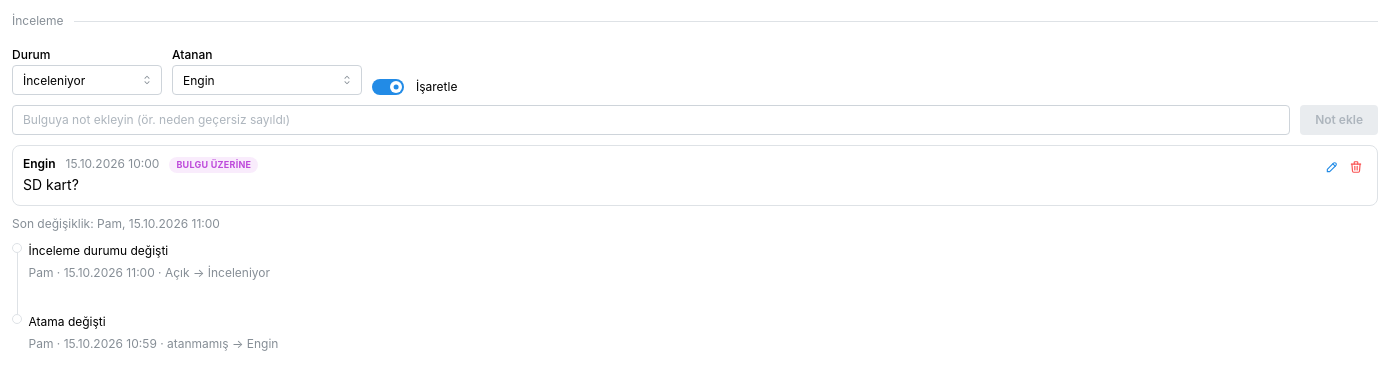
Test case: FindingReviewPanel › changes the review status and shows the history in Turkish
This screenshot has width=1390, height=368.
Expected: the text "SD kart?" is shown, [23,176,79,193]
Expected: the text "Pam · 15.10.2026 11:00 · Açık → İnceleniyor" is shown, [28,265,270,280]
Click the field labelled "Durum". click: (87, 80)
box: [12,65,162,95]
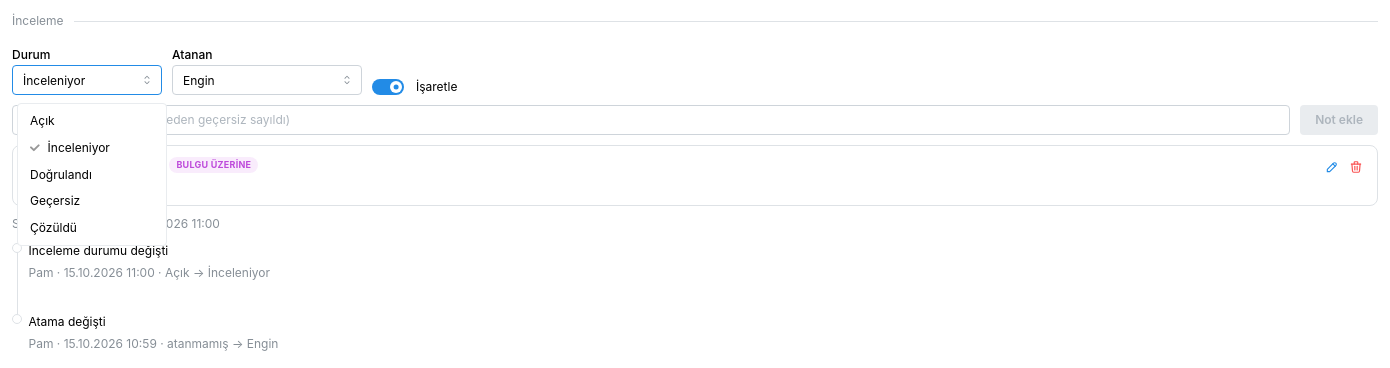
Click the option "Doğrulandı". click: (61, 174)
box: [30,167,92,182]
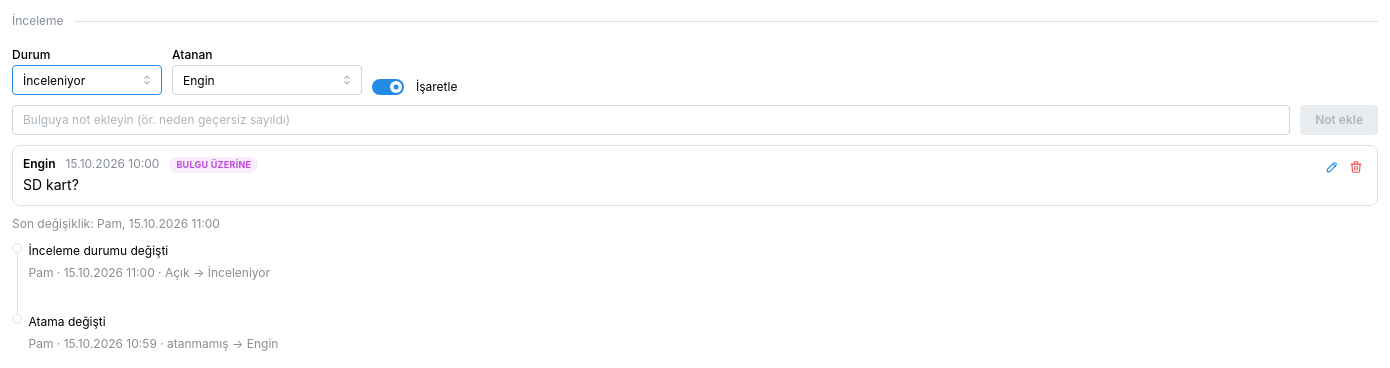
Click the field labelled "Atanan". click: (267, 80)
box: [172,65,362,95]
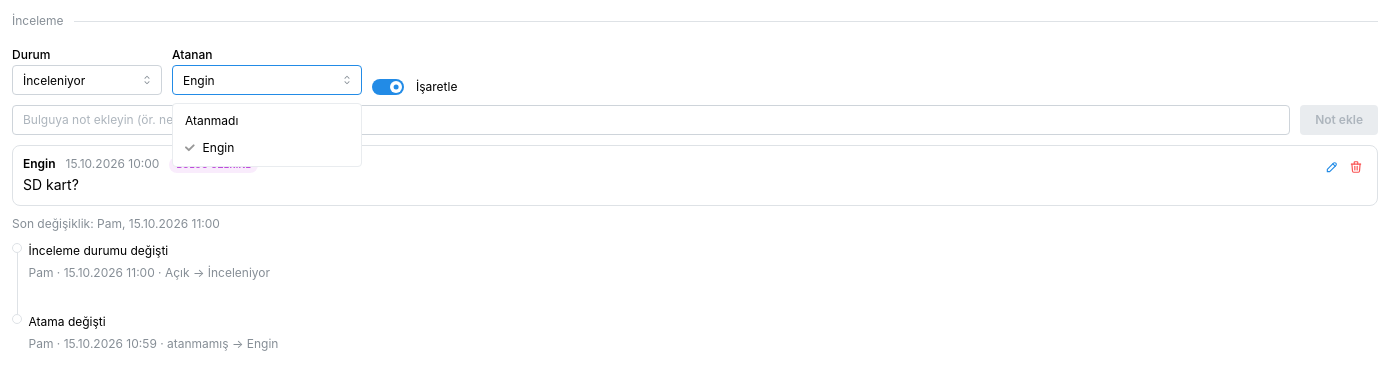
Now the option "Engin" is shown, box [185,140,234,155]
